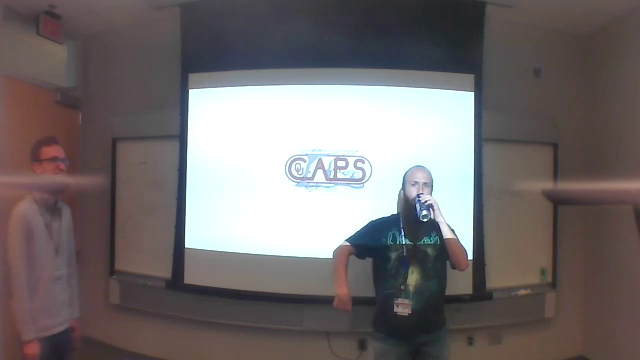down: (328, 289, 355, 321)
